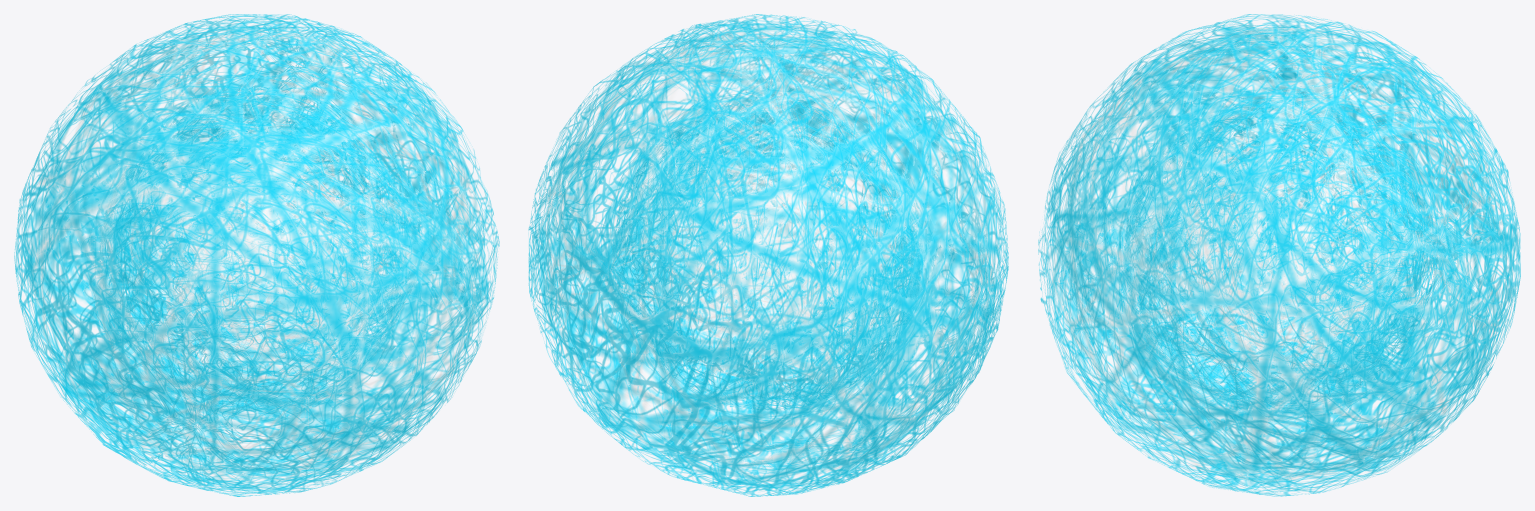
Rendered from rasengan.glb.
3 renders of one model, left to right at view 1: azimuth 30°, elevation 25°; view 2: azimuth 150°, elevation 25°; view 3: azimuth 270°, elevation 25°, orthographic.
Parts seen in each view (by area): view 1: Sphere UV 7, Sphere UV 8, Sphere UV; view 2: Sphere UV 7, Sphere UV 8, Sphere UV; view 3: Sphere UV 7, Sphere UV 8, Sphere UV.
Part boxes in pixels (left/top/right/bottom): Sphere UV 7: left=24, top=19, right=488, bottom=489; Sphere UV 8: left=14, top=14, right=499, bottom=496; Sphere UV: left=100, top=98, right=409, bottom=411; Sphere UV 7: left=535, top=23, right=1000, bottom=489; Sphere UV 8: left=528, top=14, right=1008, bottom=496; Sphere UV: left=612, top=100, right=922, bottom=410; Sphere UV 7: left=1047, top=20, right=1513, bottom=487; Sphere UV 8: left=1038, top=14, right=1520, bottom=496; Sphere UV: left=1123, top=100, right=1436, bottom=410.
Bounding box in the file's own units: 1.04 × 1.05 × 1.05.
3 materials, 3 textured.
